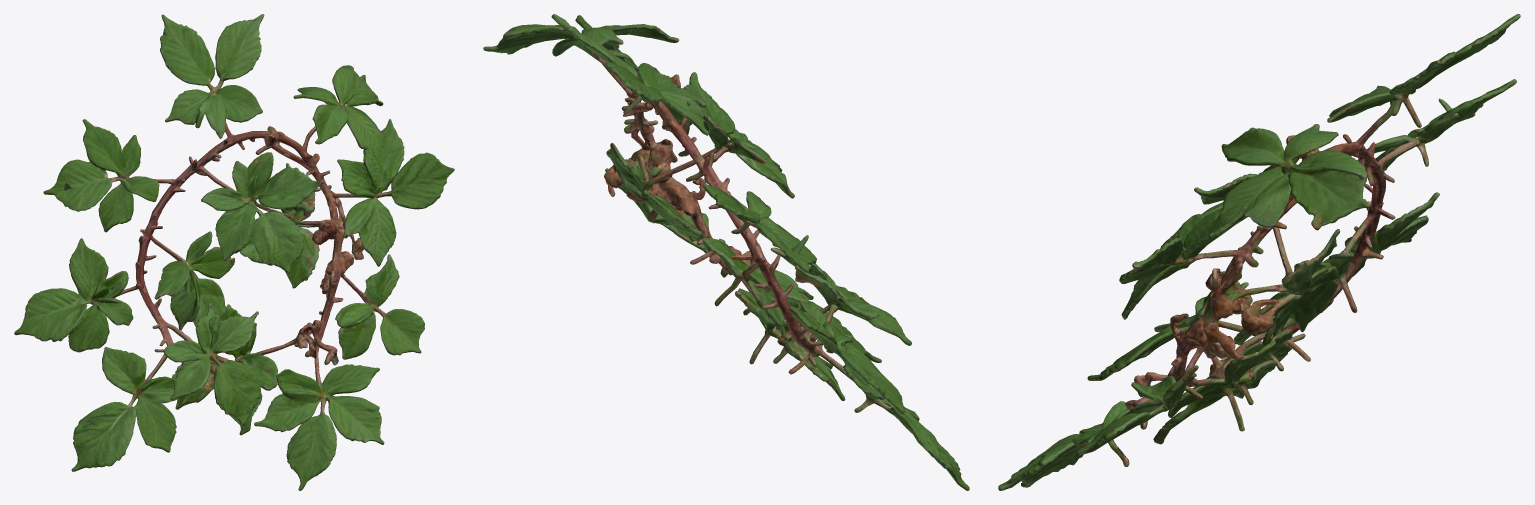
Rendered from bramble-stem-v12.glb.
3 views of the same model, side by side, from view 1: azimuth 30°, elevation 25°; view 2: azimuth 150°, elevation 25°; view 3: azimuth 270°, elevation 25° (orthographic). The views are drawn at different scales.
Parts seen in each view (by area): view 1: geometry_0; view 2: geometry_0; view 3: geometry_0.
Part boxes in pixels (x1,y1,x2,y2): geometry_0: [14, 14, 454, 490]; geometry_0: [483, 14, 969, 490]; geometry_0: [998, 14, 1520, 490].
Bounding box in the file's own units: 0.45 × 0.4354 × 0.4072.
Materials: 1 (1 with a texture image).
